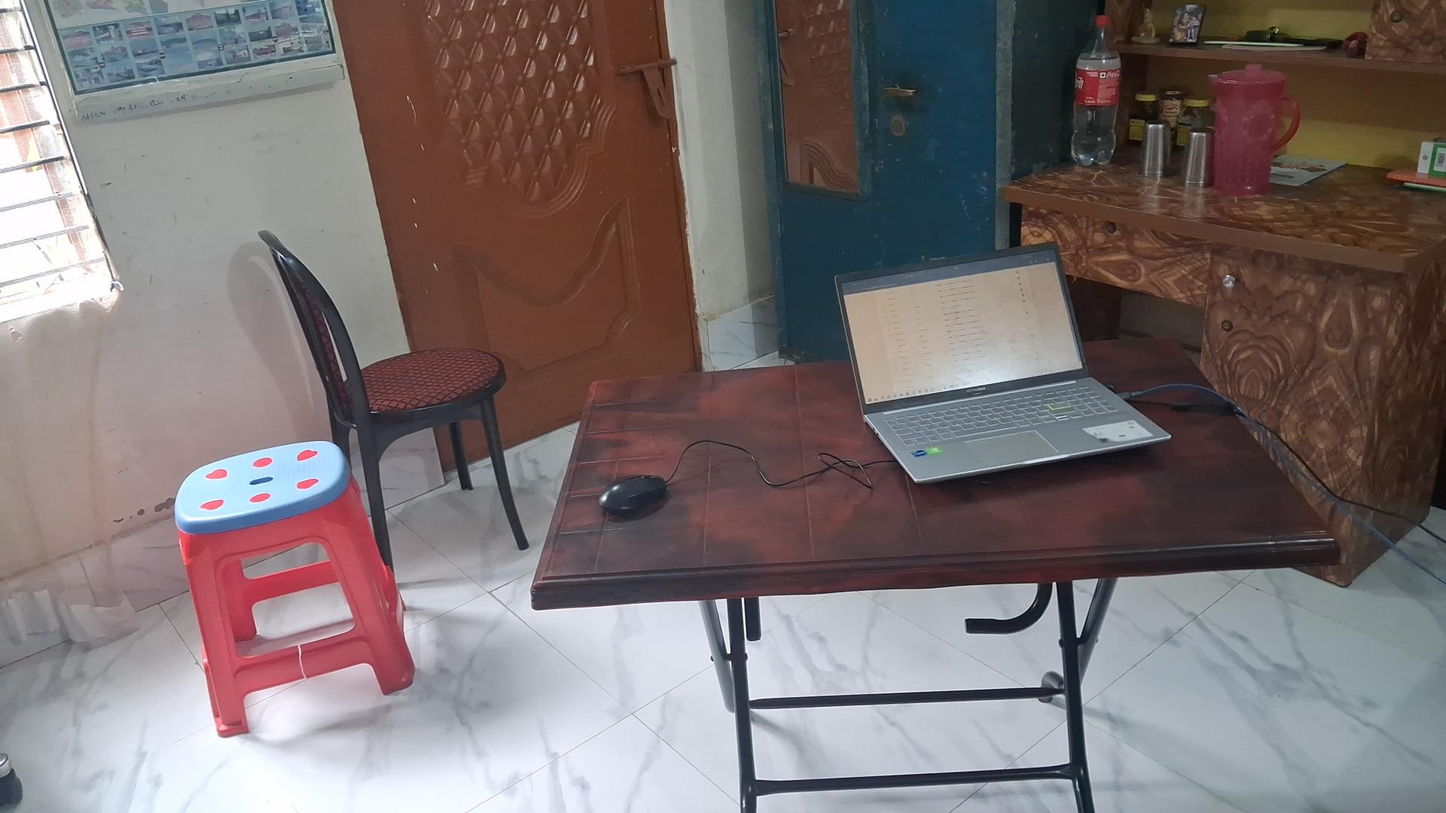Bottle: (1070, 11, 1121, 168)
Chair: (256, 230, 530, 579)
Glass: (1140, 118, 1171, 179), (1184, 129, 1215, 189)
Jug: (1211, 67, 1299, 196)
Laptop: (834, 242, 1174, 489)
Mouse: (599, 475, 671, 518)
Stool: (170, 443, 415, 734)
Table: (533, 335, 1340, 813)
